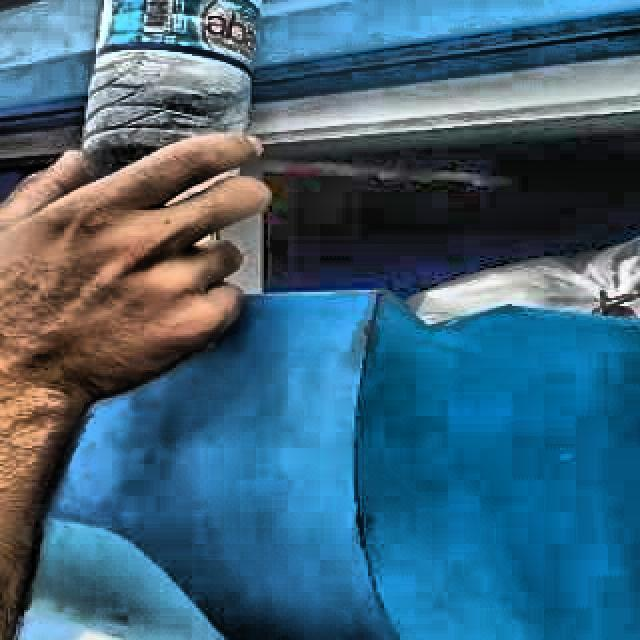plastic: (85, 0, 269, 163)
